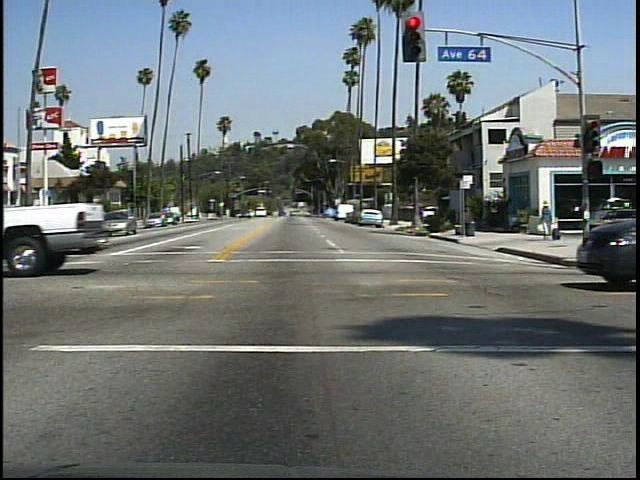person: (536, 194, 563, 239)
